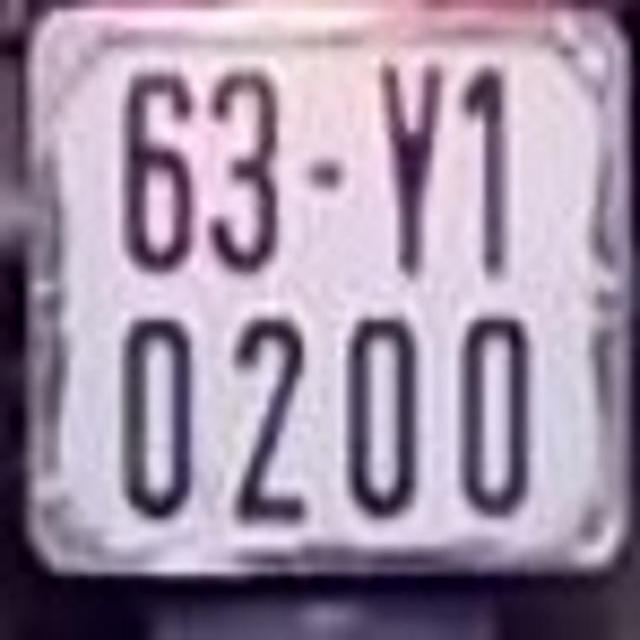0: (451, 300, 536, 520), (340, 300, 424, 519), (116, 310, 191, 526)
1: (458, 46, 521, 276)
2: (230, 304, 308, 529)
3: (206, 58, 280, 277)
6: (117, 61, 198, 278)
Y: (368, 51, 450, 272)
